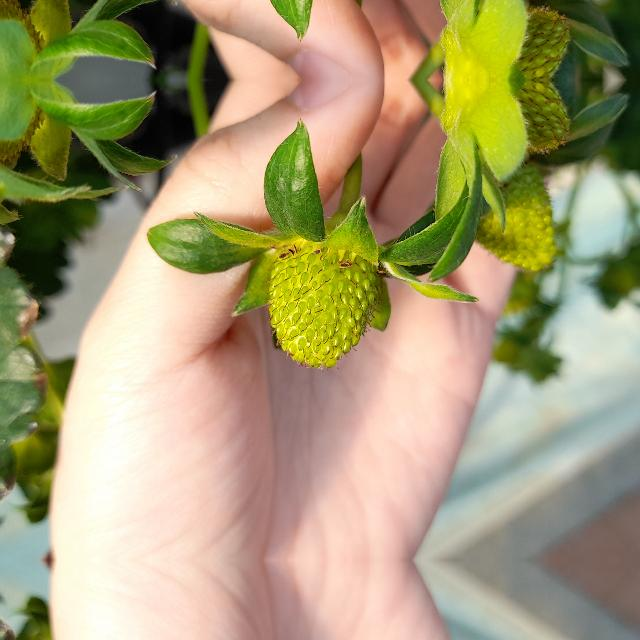Health_25: (264, 237, 382, 371), (467, 150, 559, 274)
